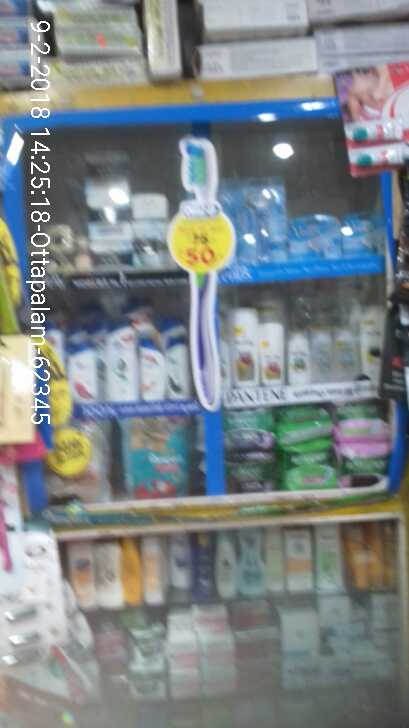venus: (237, 179, 284, 263), (289, 213, 343, 259), (343, 213, 384, 259)
